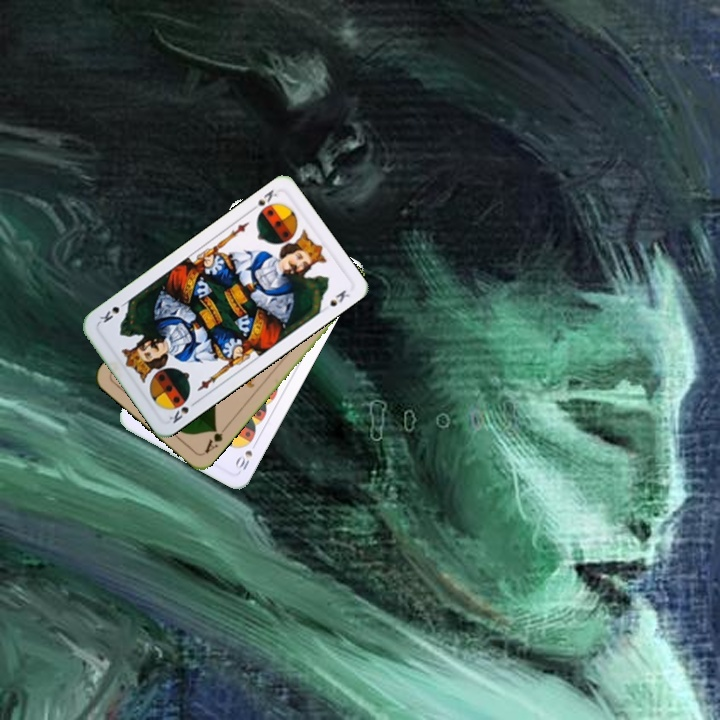GA: (199, 422, 230, 456)
S10: (231, 437, 260, 474)
SK: (246, 185, 280, 219), (165, 396, 200, 426)
